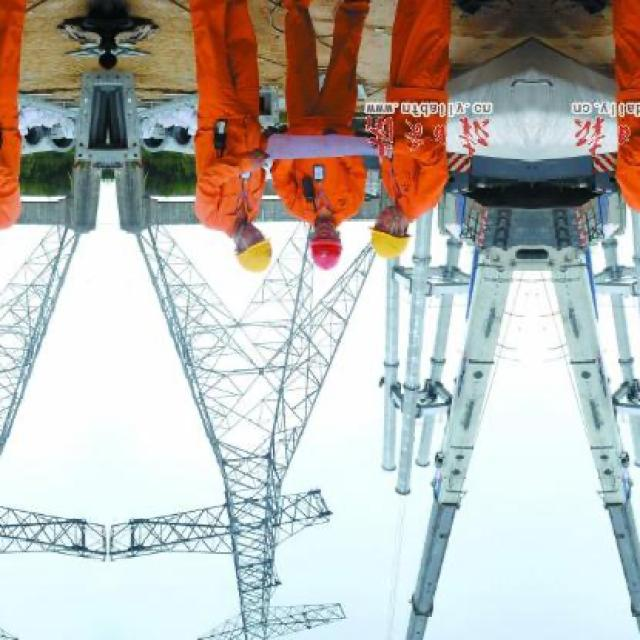con casco: (220, 186, 441, 282)
